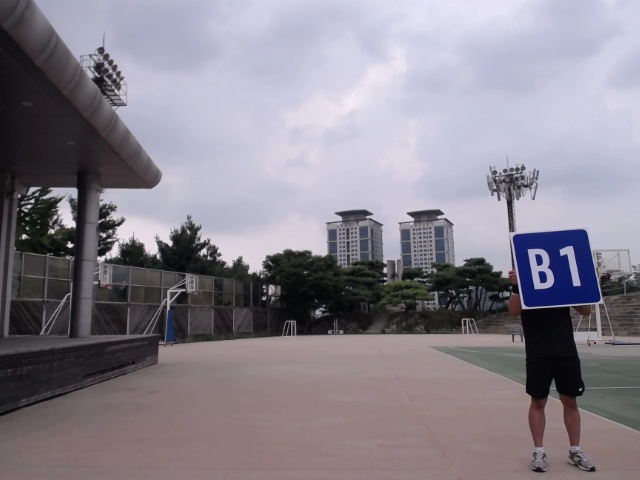delivery_b1: (511, 228, 605, 309)
